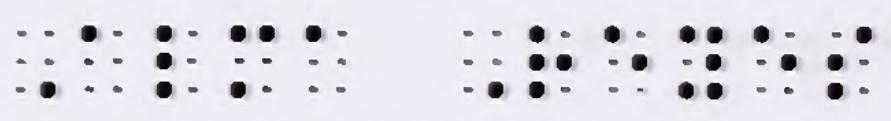capital_sign: (15, 29, 56, 100), (463, 29, 505, 98)
letter_A: (81, 24, 123, 94)
letter_R: (529, 24, 572, 99)
letter_a: (306, 24, 348, 94)
letter_e: (754, 24, 796, 94), (606, 24, 648, 93)
letter_l: (155, 26, 200, 100)
letter_m: (230, 24, 276, 99)
letter_s: (826, 26, 872, 100)
letter_y: (676, 25, 725, 100)
